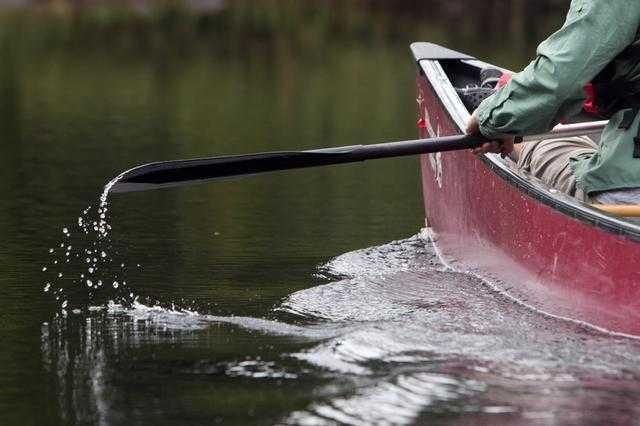kayak: (409, 41, 639, 339)
